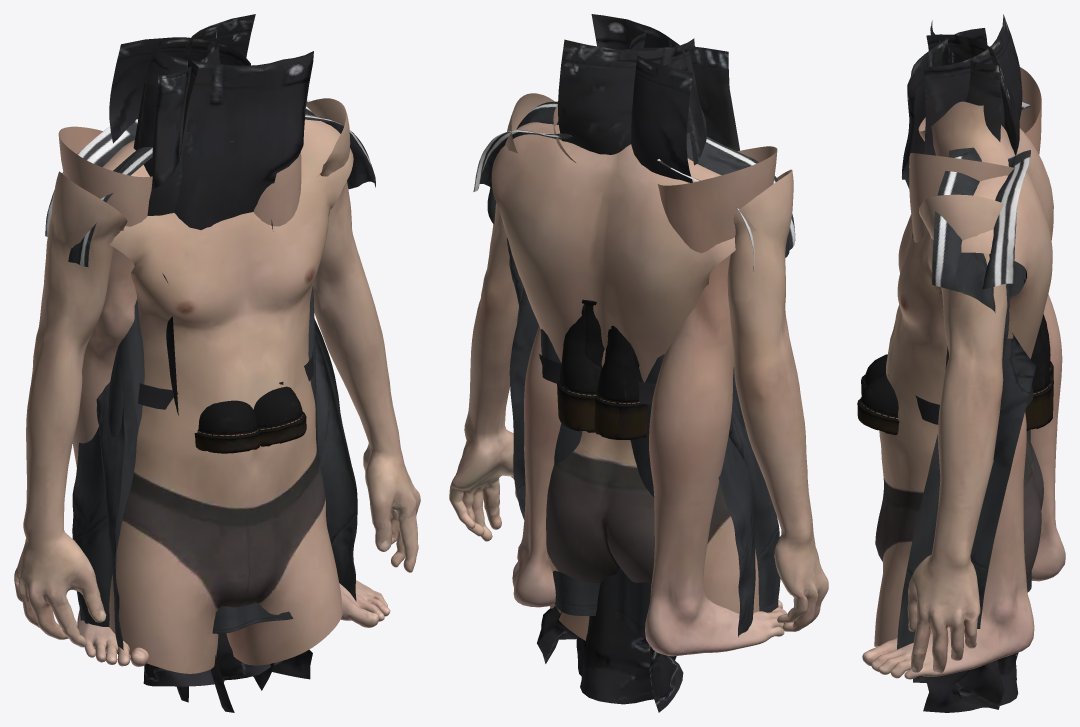
Rendered from club-avatar-5.glb.
3 renders of one model, left to right at view 1: azimuth 30°, elevation 25°; view 2: azimuth 150°, elevation 25°; view 3: azimuth 270°, elevation 25°, orthographic. The views are drawn at different scales.
Parts seen in each view (by area): view 1: body (×3), Pattern2D_56964, Body_Front, Body_Back, Pattern2D_56966, Pattern2D_56965, shoes_r_Shape, shoes_l_Shape, Pattern2D_56967, Pattern2D_72373; view 2: body (×3), Pattern2D_56967, Body_Back, Body_Front, Pattern2D_56966, Pattern2D_56965, Pattern2D_56964, shoes_r_Shape, shoes_l_Shape, Pattern2D_72373; view 3: body (×3), Body_Front, Body_Back, Pattern2D_56966, Pattern2D_56965, Pattern2D_56967, Pattern2D_56964, shoes_l_Shape, shoes_r_Shape, Pattern2D_72373.
Part boxes in pixels (<box>): body (×3): <box>14,98,420,673</box>; Pattern2D_56964: <box>133,48,313,686</box>; Body_Front: <box>45,99,318,633</box>; Body_Back: <box>68,115,375,654</box>; Pattern2D_56966: <box>109,37,312,712</box>; Pattern2D_56965: <box>147,31,282,680</box>; shoes_r_Shape: <box>194,400,259,453</box>; shoes_l_Shape: <box>253,386,306,446</box>; Pattern2D_56967: <box>177,14,274,702</box>; Pattern2D_72373: <box>138,349,313,409</box>; body (×3): <box>449,93,828,656</box>; Pattern2D_56967: <box>558,38,707,704</box>; Body_Back: <box>487,101,795,638</box>; Body_Front: <box>473,130,755,637</box>; Pattern2D_56966: <box>576,32,692,676</box>; Pattern2D_56965: <box>537,46,739,663</box>; Pattern2D_56964: <box>591,14,706,712</box>; shoes_r_Shape: <box>557,299,604,432</box>; shoes_l_Shape: <box>594,325,647,439</box>; Pattern2D_72373: <box>539,354,655,404</box>; body (×3): <box>862,67,1065,679</box>; Body_Front: <box>945,102,1036,628</box>; Body_Back: <box>897,147,1031,649</box>; Pattern2D_56966: <box>912,14,1022,712</box>; Pattern2D_56965: <box>930,20,1004,709</box>; Pattern2D_56967: <box>926,34,1019,707</box>; Pattern2D_56964: <box>902,28,1018,660</box>; shoes_l_Shape: <box>857,269,1053,435</box>; shoes_r_Shape: <box>861,279,1053,431</box>; Pattern2D_72373: <box>888,374,1033,424</box>.
Size of what is drawn, in the model's own units: 21438 by 35320 by 10429.
Materials: 17 (17 with a texture image).
